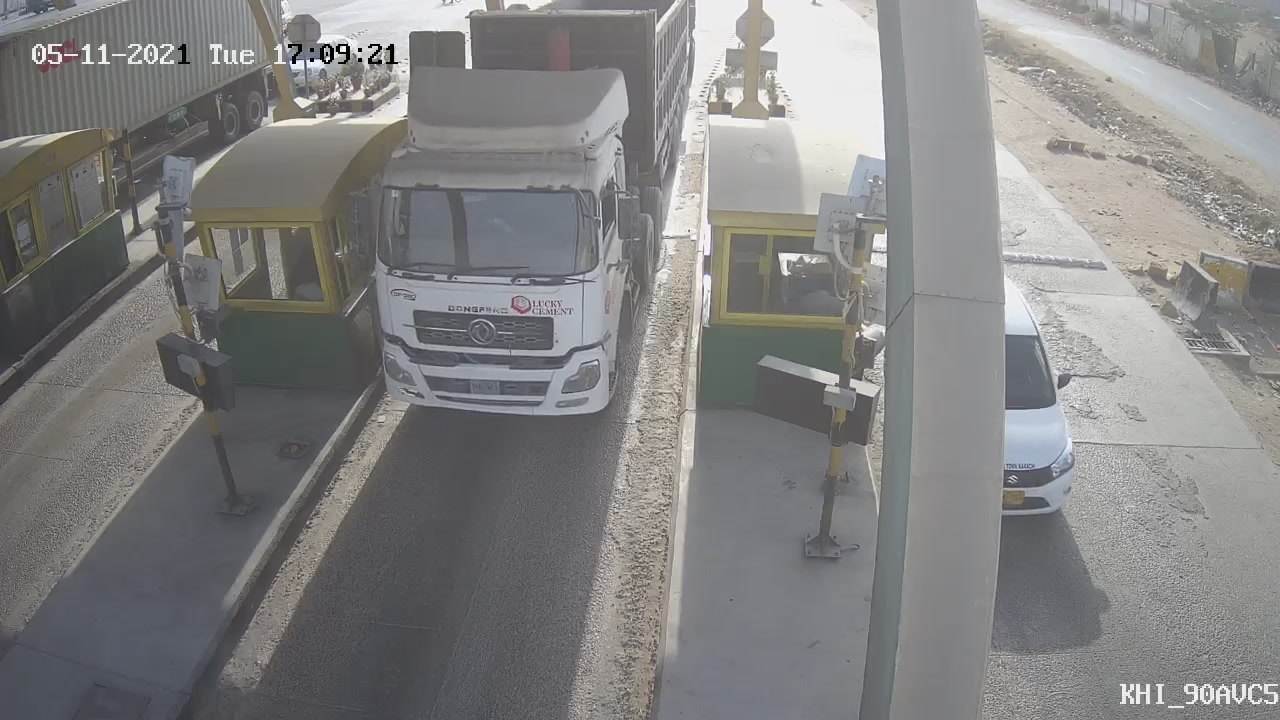F6: (322, 1, 717, 439)
